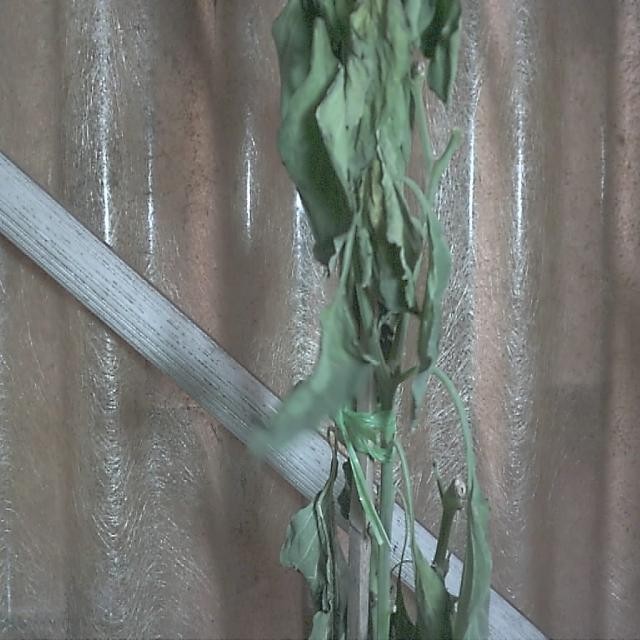Leaf: (275, 9, 354, 268)
